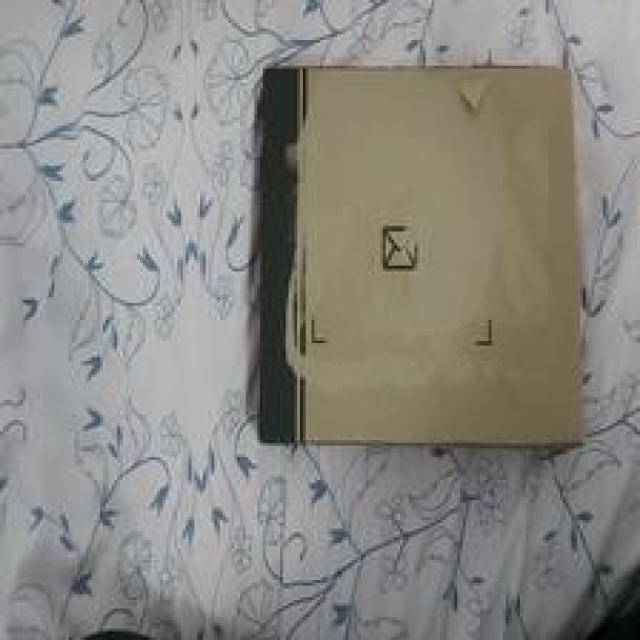Cardboard: (258, 64, 585, 457)
